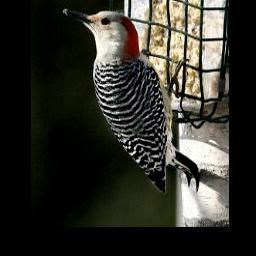Woodpecker: (63, 7, 200, 193)
